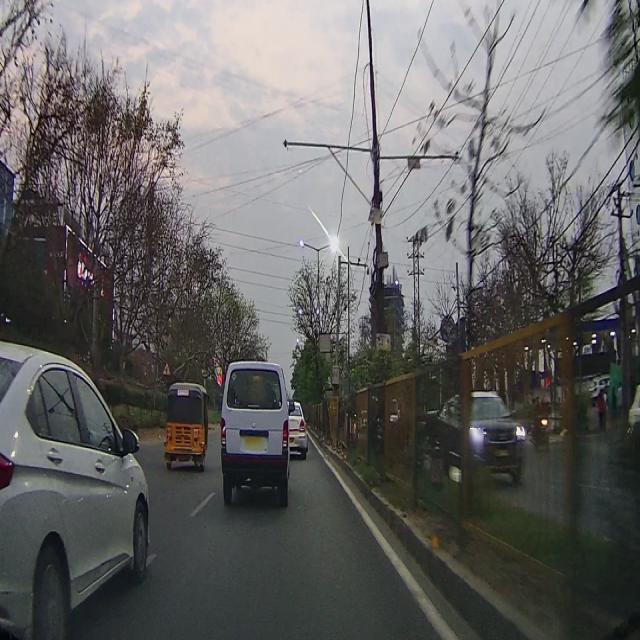side-road-left: (162, 357, 172, 378)
